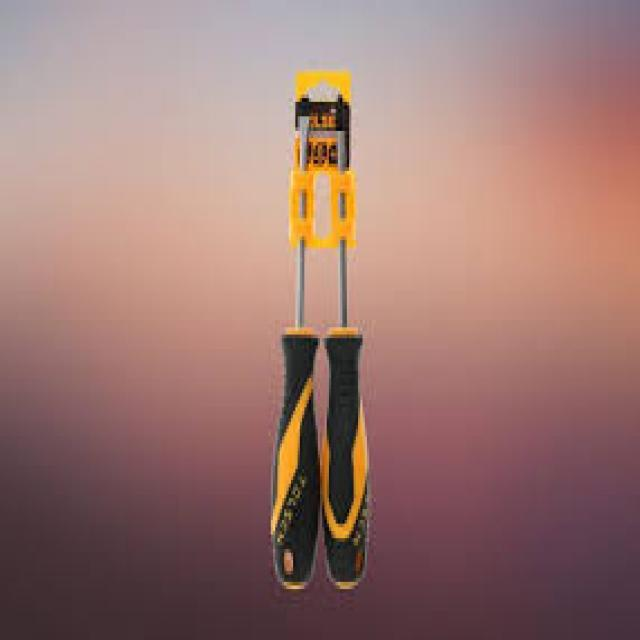screwdriver: (268, 93, 322, 591), (320, 95, 369, 592)
